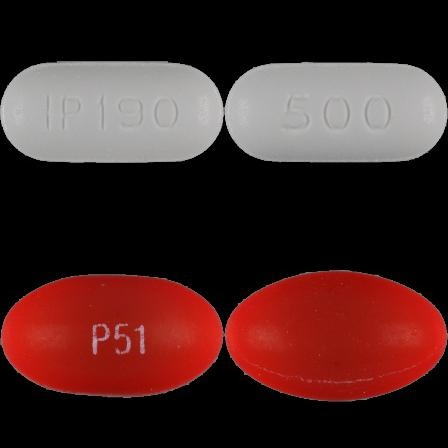0615-7892: (0, 0, 224, 224)
